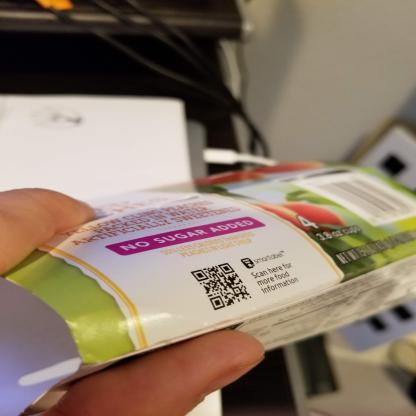barcode: (309, 175, 415, 221)
qr: (190, 259, 256, 312)
